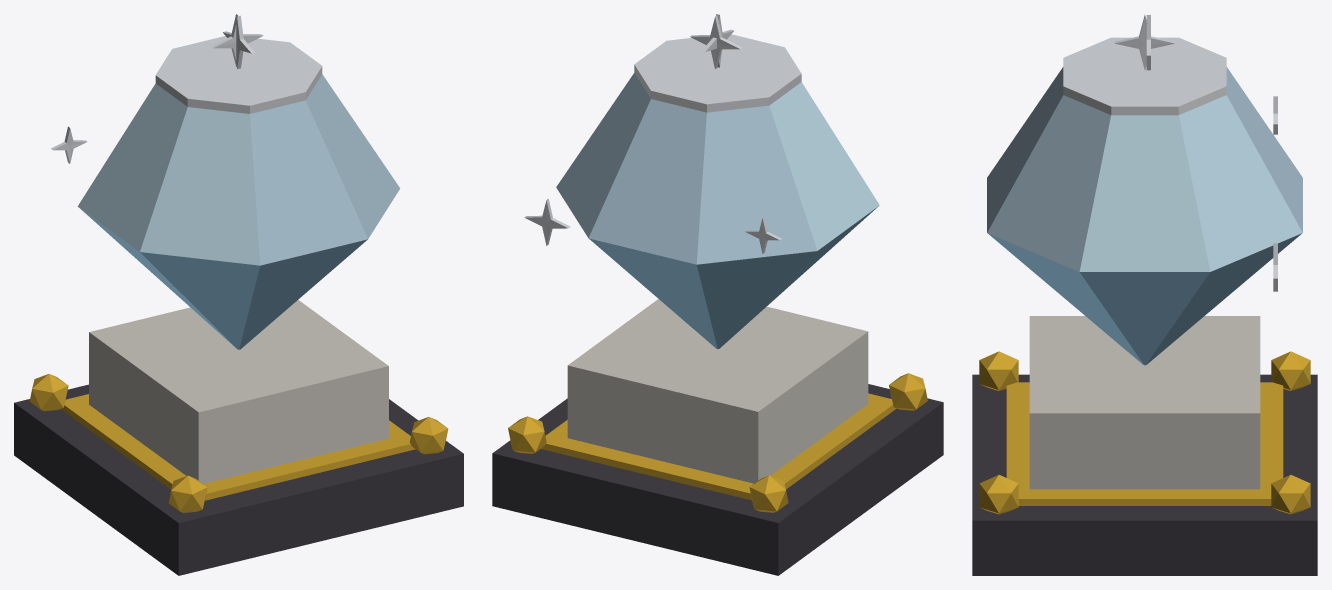
The model's file is Decor_GoldVault_Diamond.fbx.
3 renders of one model, left to right at view 1: azimuth 30°, elevation 25°; view 2: azimuth 150°, elevation 25°; view 3: azimuth 270°, elevation 25°, orthographic. The views are drawn at different scales.
Visible parts, largest first — view 1: Diamond_Body; view 2: Diamond_Body; view 3: Diamond_Body.
Part boxes in pixels (x1,y1,x2,y2): Diamond_Body: (14,14,463,575); Diamond_Body: (492,14,943,575); Diamond_Body: (972,15,1317,575).
Size of the model in its own units: 9.05 by 14.1 by 9.05.
